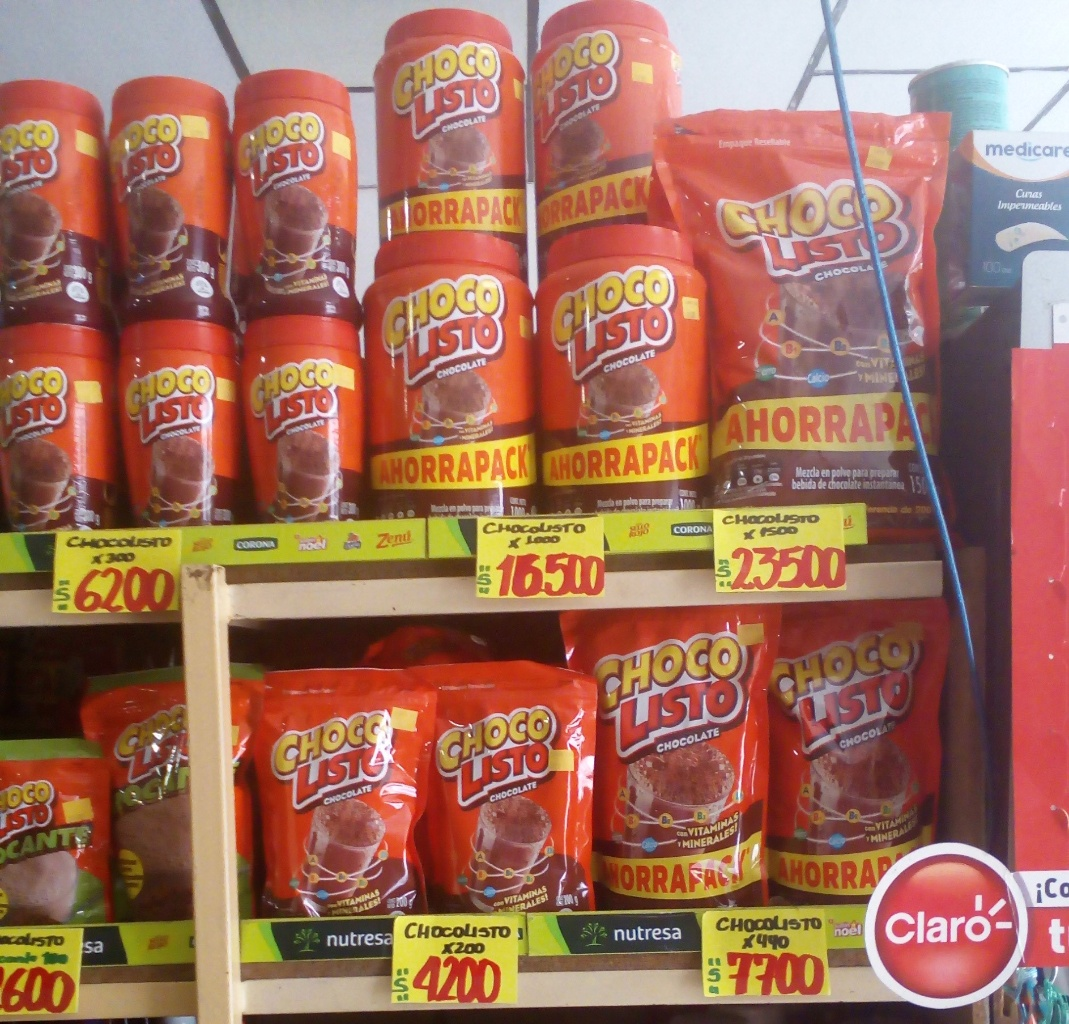COL0170102DYP10000: (3, 735, 105, 928)
COL0170102DYP25000: (87, 675, 263, 921)
COL0170103DYP1,500: (658, 98, 954, 514)
COL0170103DYP20000: (243, 666, 422, 913)
COL0170103DYP44000: (560, 603, 776, 909)
COL0170103TRR00100: (367, 2, 522, 257)
COL0170103TRR30000: (1, 79, 116, 327)
